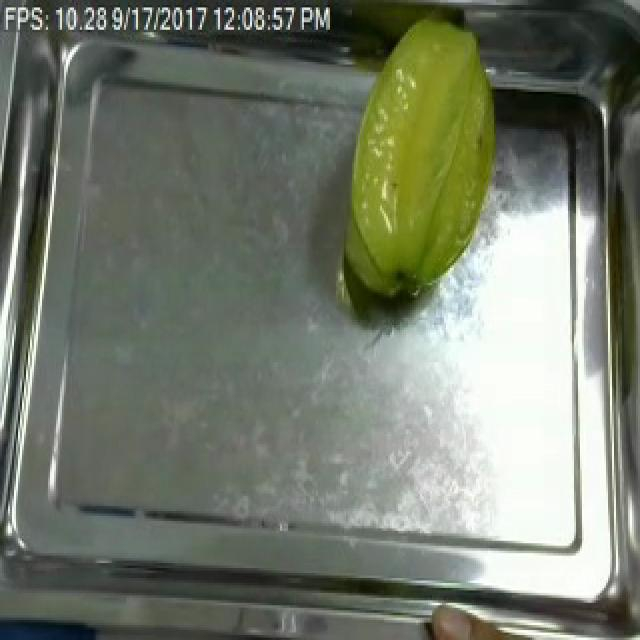fruit: (334, 8, 510, 308)
